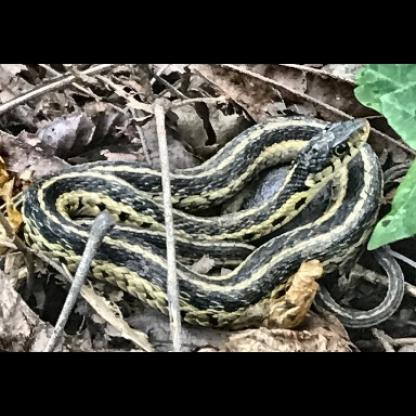Snake: (24, 114, 404, 333)
